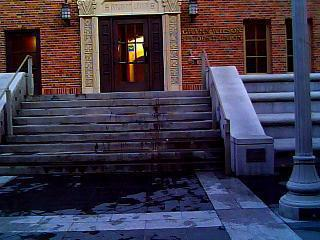Escaleras: (20, 96, 216, 169)
